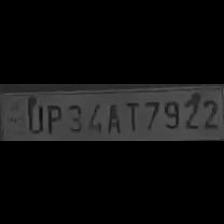2: (198, 94, 218, 130), (181, 94, 199, 130)
3: (64, 100, 84, 132)
4: (84, 98, 102, 132)
7: (140, 96, 158, 132)
9: (160, 96, 180, 130)
A: (102, 98, 122, 132)
P: (43, 100, 62, 132)
T: (123, 97, 141, 131)
U: (24, 96, 42, 132)
